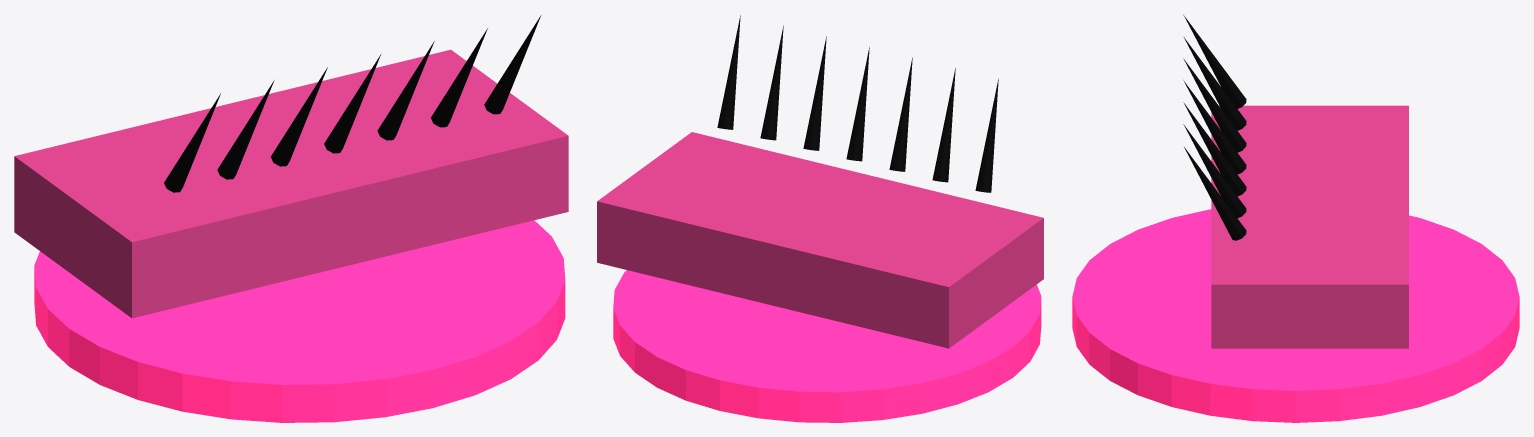
The model's file is beauty_false_lashes.dae.
3 renders of one model, left to right at view 1: azimuth 30°, elevation 25°; view 2: azimuth 150°, elevation 25°; view 3: azimuth 270°, elevation 25°, orthographic. The views are drawn at different scales.
Parts seen in each view (by area): view 1: 03_14_Popular_Beauty_False_Lashes_part_01, 03_14_Popular_Beauty_False_Lashes_ROOT_base, 03_14_Popular_Beauty_False_Lashes_part_02, 03_14_Popular_Beauty_False_Lashes_part_05, 03_14_Popular_Beauty_False_Lashes_part_03, 03_14_Popular_Beauty_False_Lashes_part_06, 03_14_Popular_Beauty_False_Lashes_part_04, 03_14_Popular_Beauty_False_Lashes_part_07, 03_14_Popular_Beauty_False_Lashes_part_08; view 2: 03_14_Popular_Beauty_False_Lashes_part_01, 03_14_Popular_Beauty_False_Lashes_ROOT_base, 03_14_Popular_Beauty_False_Lashes_part_02, 03_14_Popular_Beauty_False_Lashes_part_04, 03_14_Popular_Beauty_False_Lashes_part_06, 03_14_Popular_Beauty_False_Lashes_part_07, 03_14_Popular_Beauty_False_Lashes_part_08, 03_14_Popular_Beauty_False_Lashes_part_03, 03_14_Popular_Beauty_False_Lashes_part_05; view 3: 03_14_Popular_Beauty_False_Lashes_ROOT_base, 03_14_Popular_Beauty_False_Lashes_part_01, 03_14_Popular_Beauty_False_Lashes_part_08, 03_14_Popular_Beauty_False_Lashes_part_06, 03_14_Popular_Beauty_False_Lashes_part_05, 03_14_Popular_Beauty_False_Lashes_part_03, 03_14_Popular_Beauty_False_Lashes_part_04, 03_14_Popular_Beauty_False_Lashes_part_02, 03_14_Popular_Beauty_False_Lashes_part_07.
Boxes of the visible parts, box(x1,y1,x2,y2) form: 03_14_Popular_Beauty_False_Lashes_part_01: box(14, 49, 568, 318); 03_14_Popular_Beauty_False_Lashes_ROOT_base: box(34, 220, 565, 422); 03_14_Popular_Beauty_False_Lashes_part_02: box(164, 93, 220, 192); 03_14_Popular_Beauty_False_Lashes_part_05: box(324, 54, 380, 153); 03_14_Popular_Beauty_False_Lashes_part_03: box(217, 80, 274, 179); 03_14_Popular_Beauty_False_Lashes_part_06: box(377, 41, 434, 140); 03_14_Popular_Beauty_False_Lashes_part_04: box(271, 67, 327, 166); 03_14_Popular_Beauty_False_Lashes_part_07: box(431, 28, 487, 127); 03_14_Popular_Beauty_False_Lashes_part_08: box(484, 15, 541, 114); 03_14_Popular_Beauty_False_Lashes_part_01: box(597, 132, 1043, 348); 03_14_Popular_Beauty_False_Lashes_ROOT_base: box(613, 270, 1041, 422); 03_14_Popular_Beauty_False_Lashes_part_02: box(975, 78, 998, 192); 03_14_Popular_Beauty_False_Lashes_part_04: box(889, 57, 912, 171); 03_14_Popular_Beauty_False_Lashes_part_06: box(803, 36, 826, 150); 03_14_Popular_Beauty_False_Lashes_part_07: box(760, 25, 783, 140); 03_14_Popular_Beauty_False_Lashes_part_08: box(717, 15, 740, 129); 03_14_Popular_Beauty_False_Lashes_part_03: box(932, 68, 955, 182); 03_14_Popular_Beauty_False_Lashes_part_05: box(846, 47, 869, 161); 03_14_Popular_Beauty_False_Lashes_ROOT_base: box(1072, 209, 1519, 422); 03_14_Popular_Beauty_False_Lashes_part_01: box(1211, 105, 1408, 348); 03_14_Popular_Beauty_False_Lashes_part_08: box(1184, 147, 1246, 240); 03_14_Popular_Beauty_False_Lashes_part_06: box(1183, 102, 1246, 196); 03_14_Popular_Beauty_False_Lashes_part_05: box(1183, 80, 1246, 174); 03_14_Popular_Beauty_False_Lashes_part_03: box(1184, 37, 1246, 130); 03_14_Popular_Beauty_False_Lashes_part_04: box(1183, 58, 1246, 152); 03_14_Popular_Beauty_False_Lashes_part_02: box(1183, 14, 1246, 108); 03_14_Popular_Beauty_False_Lashes_part_07: box(1183, 124, 1246, 218).
Bounding box in the file's own units: 0.76 × 0.478 × 0.76.
